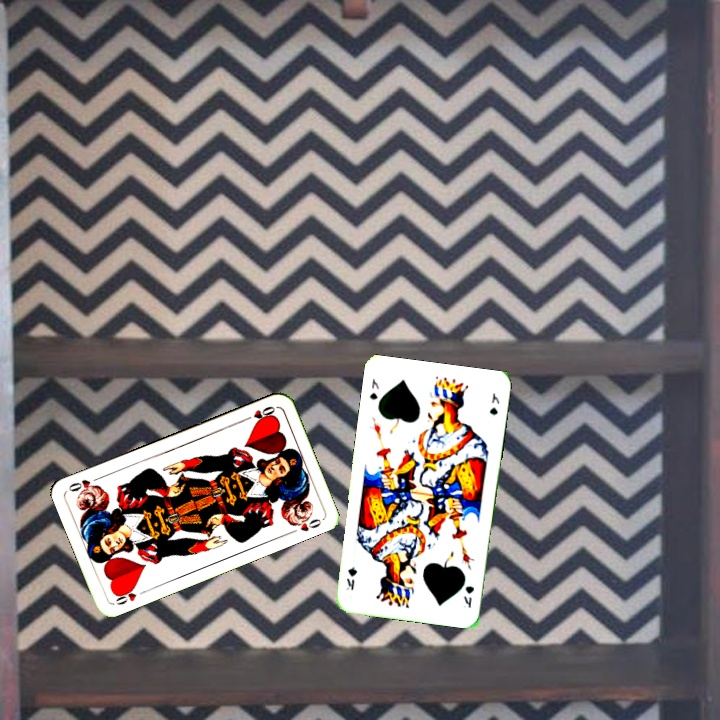GK: (460, 582, 476, 610), (365, 374, 381, 402)
HO: (239, 402, 278, 424), (111, 583, 139, 607)
